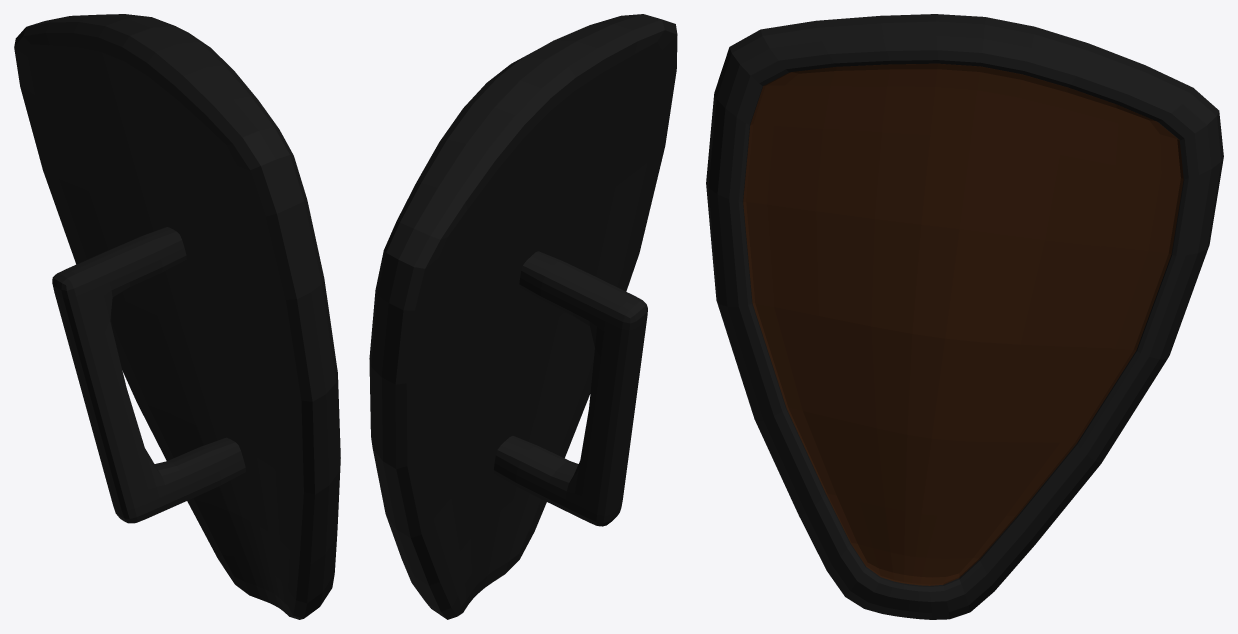
Rendered from shield.fbx.
3 renders of one model, left to right at view 1: azimuth 30°, elevation 25°; view 2: azimuth 150°, elevation 25°; view 3: azimuth 270°, elevation 25°, orthographic. The views are drawn at different scales.
Visible parts, largest first — view 1: Cube.001; view 2: Cube.001; view 3: Cube.001.
Boxes of the visible parts, x1,y1,x2,y2 form: Cube.001: (14, 14, 340, 619); Cube.001: (369, 14, 677, 619); Cube.001: (706, 14, 1223, 619).
Bounding box in the file's own units: 24.53 × 57.62 × 48.58.
